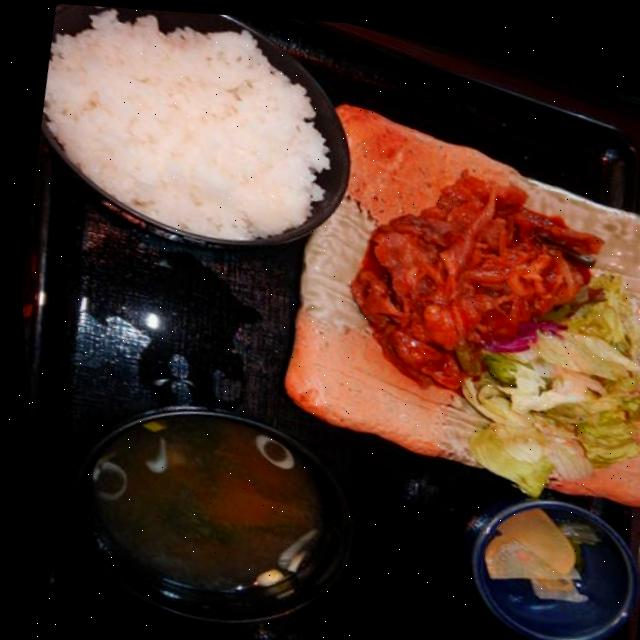汤锅炖物: (25, 352, 355, 640)
猪肉菜式: (318, 126, 632, 422)
米饭主食: (17, 1, 376, 279)
蔬菜料理: (432, 262, 640, 518)
